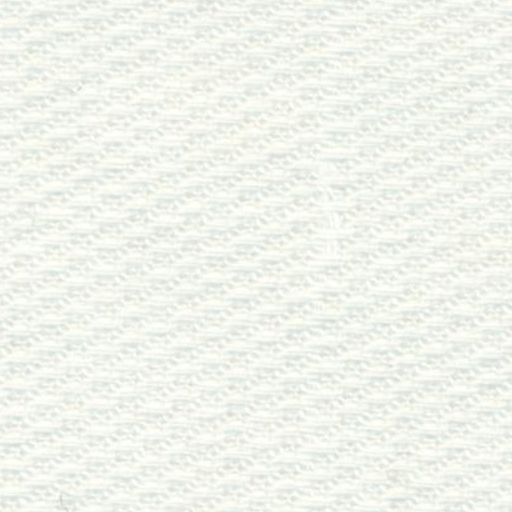TuoSha: (278, 21, 370, 501)
